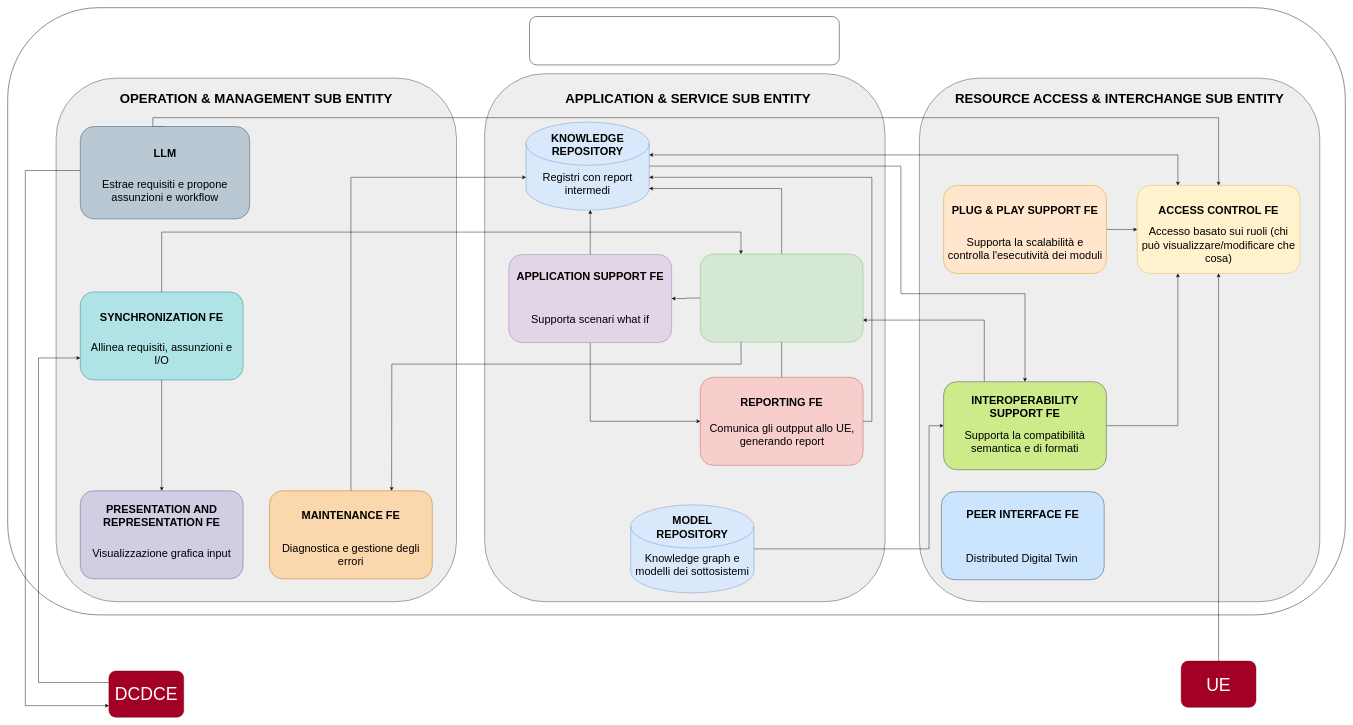
Some shapes in this 1353 by 725 pixel diagram are drawn without their labels. The shapes that lost their labels are listed below. From the top down, each one's centre as x and y in pixels, then its label:
the point at 684,40: CORE ENTITY
the point at 781,298: SIMULATION FE
